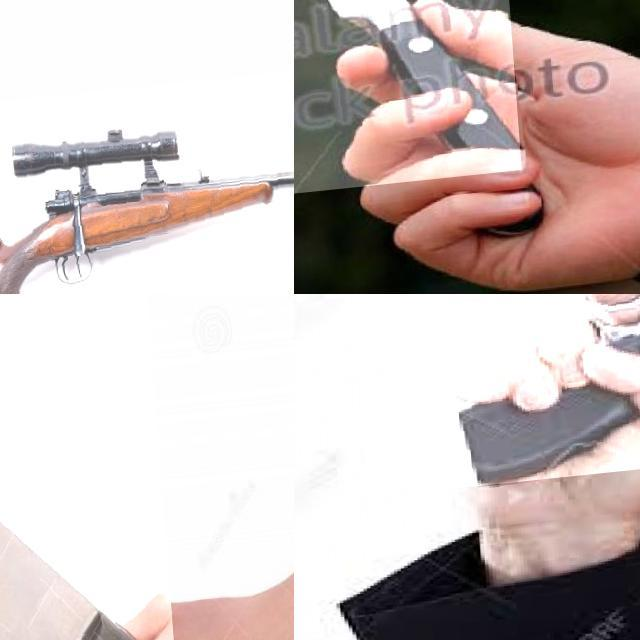-: (0, 294, 223, 640), (294, 0, 514, 208)
gun-knife-thesis - v11 Yolov5 augmented: (0, 65, 294, 294), (417, 294, 640, 494)
